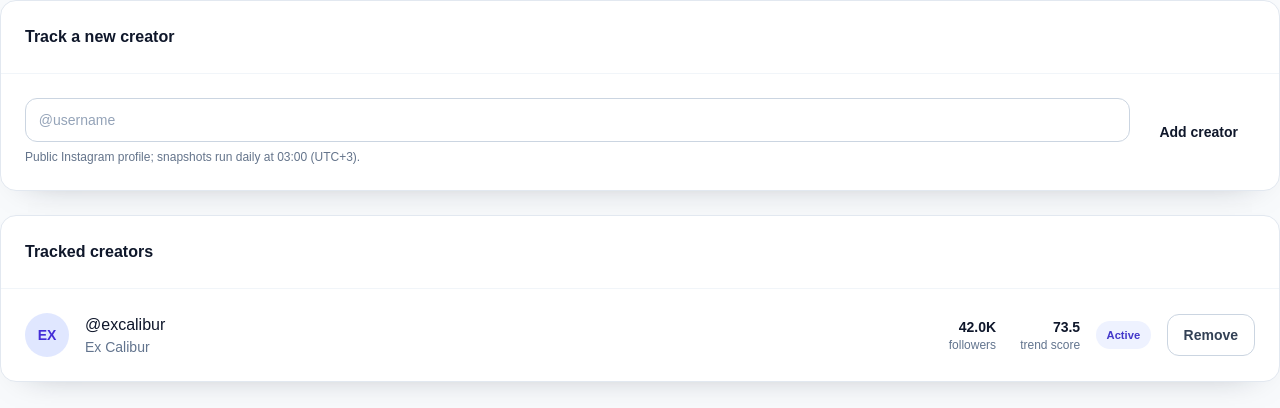
Scenario: CreatorsDashboard › removes a creator from the list
Expected: the link "@excalibur" is shown, [85,316,165,333]
Click the button with aria-label "Stop tracking @excalibur" at (1211, 335), box [1166,314,1255,356]
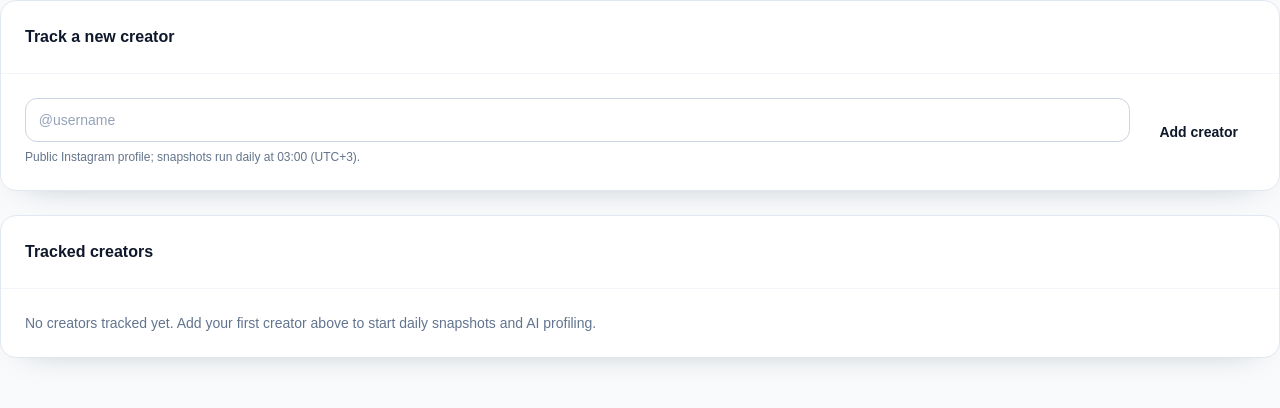
Expected: the link "@excalibur" is gone
